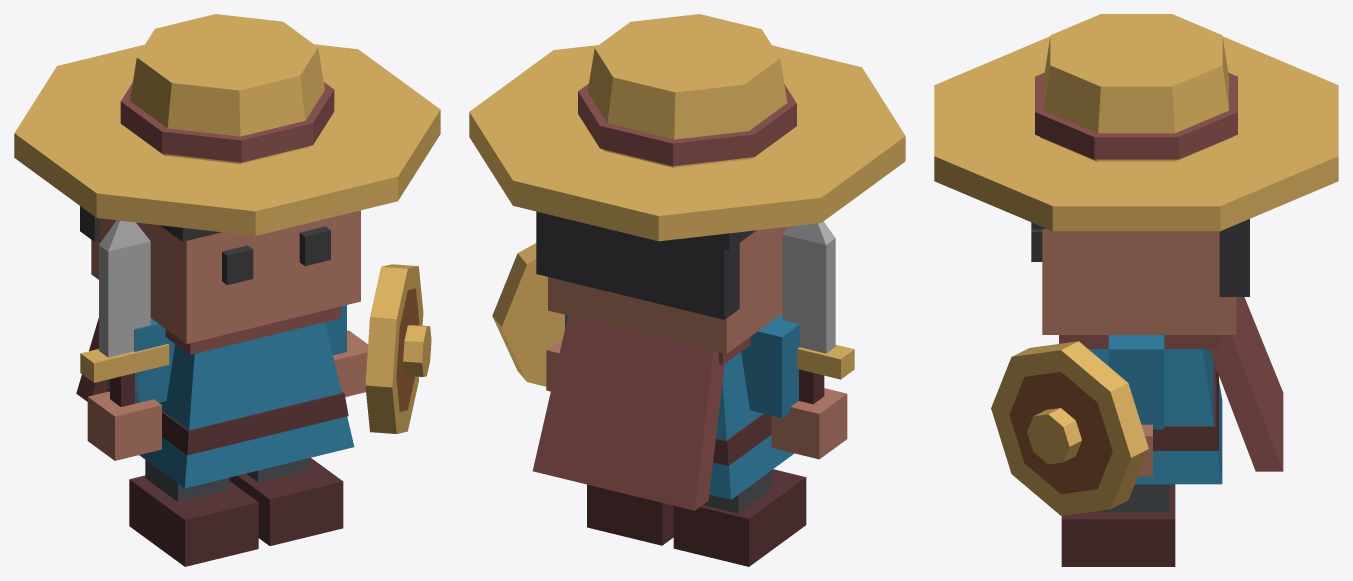
Rendered from hero.glb.
3 views of the same model, side by side, from view 1: azimuth 30°, elevation 25°; view 2: azimuth 150°, elevation 25°; view 3: azimuth 270°, elevation 25° (orthographic). The views are drawn at different scales.
Visible parts, largest first — view 1: Brim, Crown, Tunic, Head, BootR, Shield, HatBand, BootL, BladeR, Belt, HandR, Guard (+12 smaller); view 2: Brim, Cape, Crown, HairBack, Head, BootR, HatBand, Shield, BladeR, ArmR, Tunic, HandR (+7 smaller); view 3: Brim, Crown, Head, Shield, Cape, Tunic, BootL, HatBand, ArmL, Boss, HairBack, Belt (+2 smaller).
Part boxes in pixels (x1,y1,x2,y2): Brim: (14, 44, 440, 235); Crown: (130, 14, 324, 164); Tunic: (139, 322, 354, 488); Head: (91, 210, 360, 343); BootR: (129, 475, 258, 566); Shield: (365, 264, 423, 433); HatBand: (120, 82, 334, 162); BootL: (229, 457, 343, 545); BladeR: (99, 241, 150, 357); Belt: (107, 388, 348, 455); HandR: (87, 391, 161, 460); Guard: (80, 344, 169, 382); Brim: (469, 45, 905, 241); Cape: (532, 315, 724, 510); Crown: (587, 14, 787, 167); HairBack: (536, 211, 739, 319); Head: (548, 226, 788, 353); BootR: (673, 469, 806, 566); HatBand: (578, 83, 796, 166); Shield: (492, 243, 564, 386); BladeR: (782, 234, 835, 353); ArmR: (741, 313, 799, 417); Tunic: (709, 352, 794, 499); HandR: (771, 388, 847, 459); Brim: (934, 36, 1338, 231); Crown: (1040, 14, 1232, 161); Head: (1042, 229, 1236, 334); Shield: (991, 341, 1148, 515); Cape: (1209, 297, 1283, 471); Tunic: (1088, 349, 1222, 484); BootL: (1061, 484, 1175, 566); HatBand: (1035, 72, 1237, 159); ArmL: (1108, 335, 1164, 429); Boss: (1027, 408, 1081, 464); HairBack: (1219, 229, 1249, 296); Belt: (1153, 362, 1218, 450).
Size of the model in its own units: 0.7751 by 0.95 by 0.7299.
